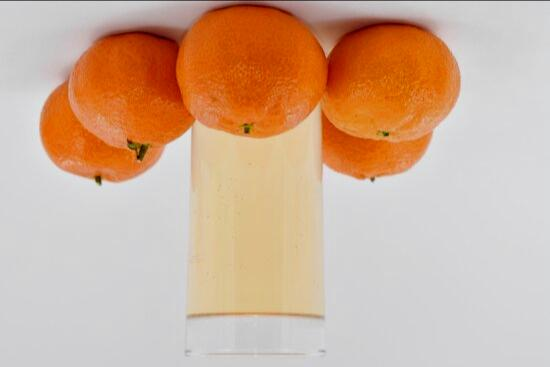cam: (179, 5, 328, 132)
